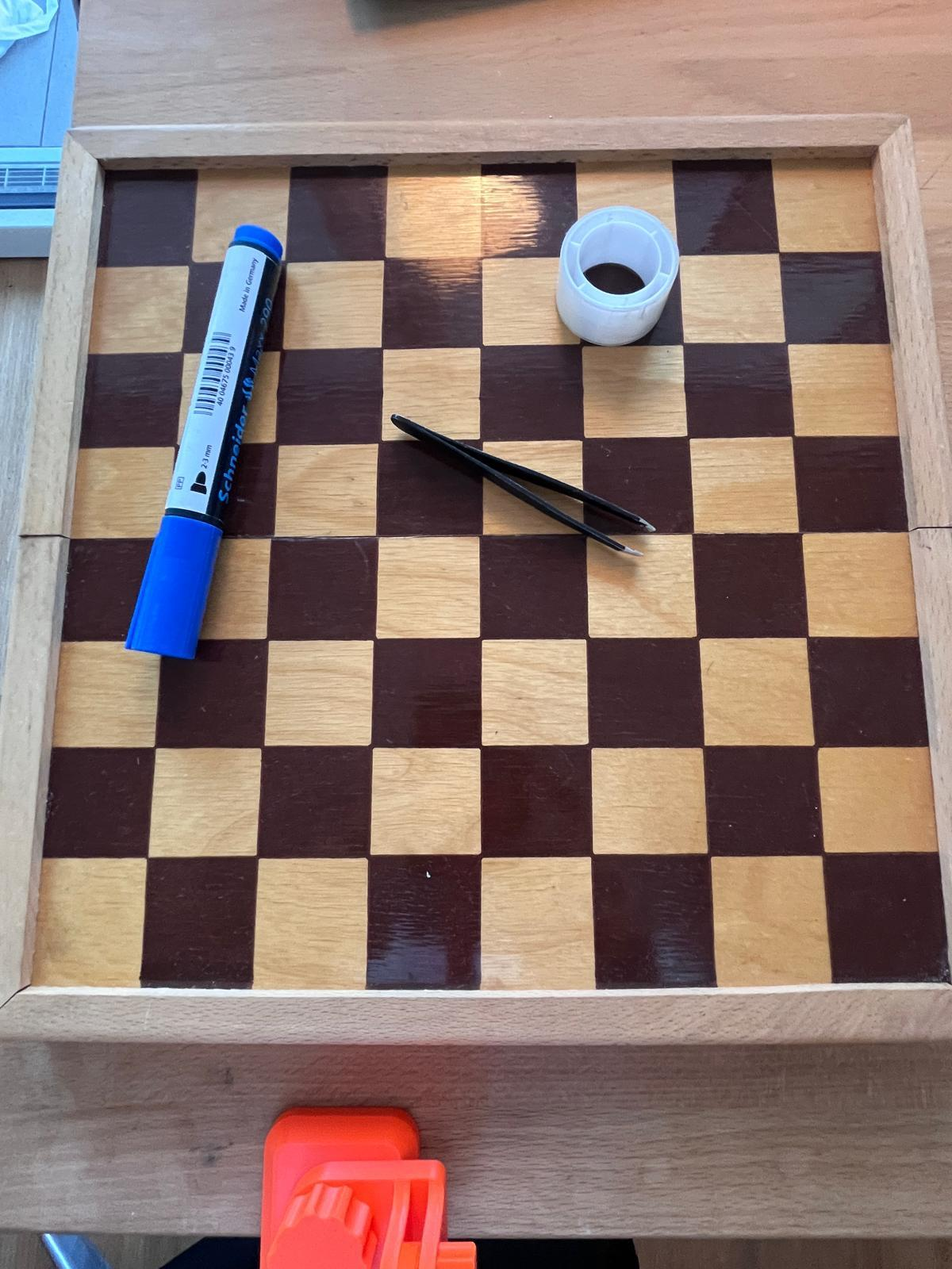marker: (119, 220, 290, 660)
tape: (552, 200, 676, 344)
tweezer: (378, 408, 670, 566)
